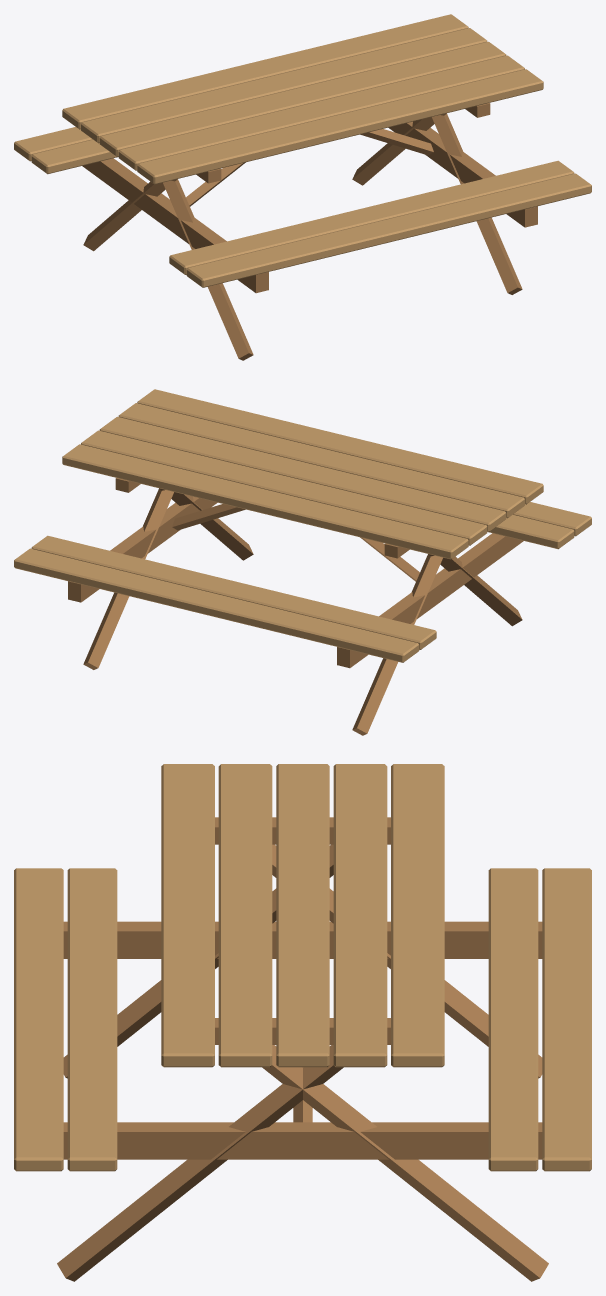
File: picnic-table.glb
The picture shows the model from 3 angles, top to bottom: view 1: azimuth 30°, elevation 25°; view 2: azimuth 150°, elevation 25°; view 3: azimuth 270°, elevation 25°; orthographic projection. The views are drawn at different scales.
Visible parts, largest first — view 1: picnic-table; view 2: picnic-table; view 3: picnic-table.
Boxes of the visible parts, x1,y1,x2,y2 form: picnic-table: (14, 14, 591, 360); picnic-table: (14, 389, 591, 735); picnic-table: (14, 764, 591, 1281).
Size of the model in its own units: 1.8 by 0.7863 by 1.51.
